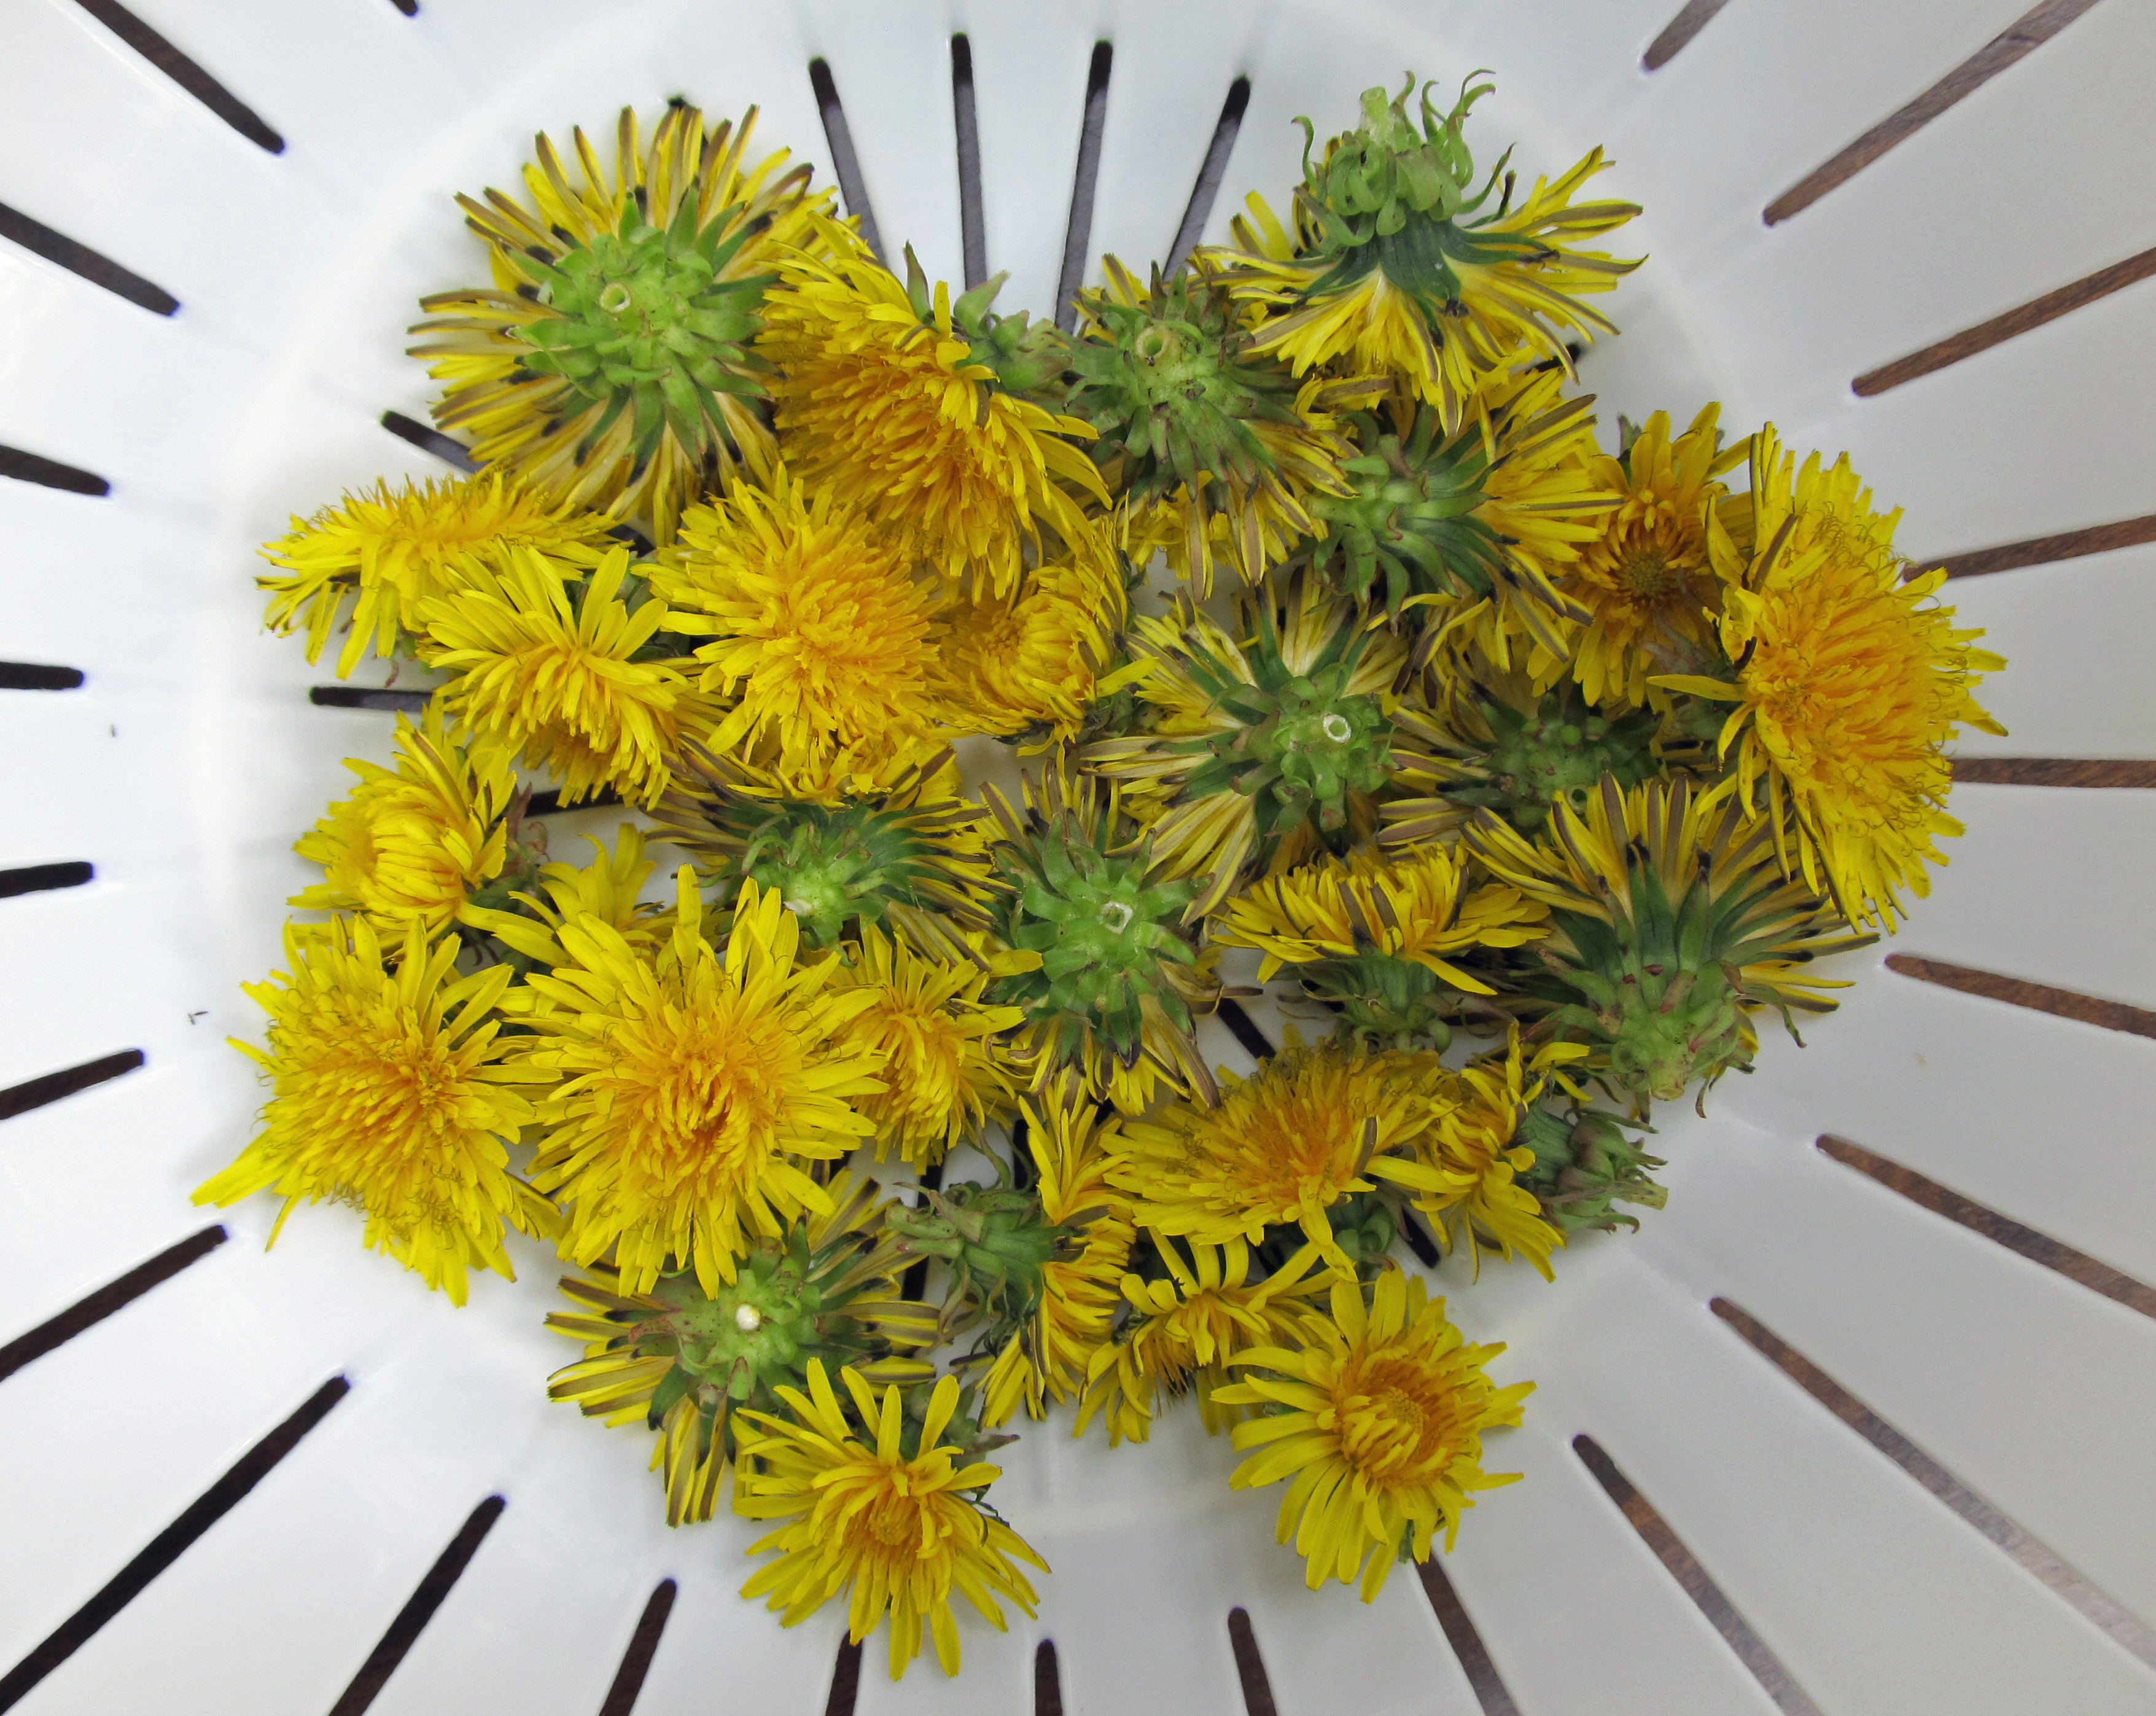dandelion: (294, 135, 1955, 1595)
